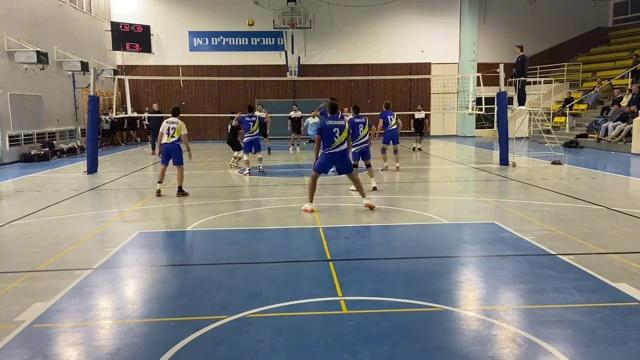ball: (246, 19, 256, 29)
